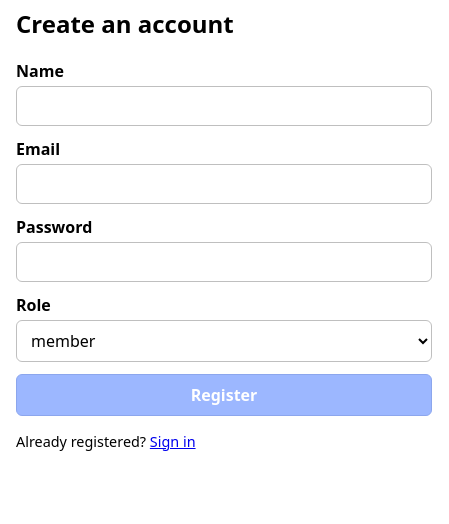
RegisterPage › renders the exact error string for a 403 librarian escalation attempt
Type "Ada" into the field labelled "Name". click: (224,106)
box: [16,86,432,126]
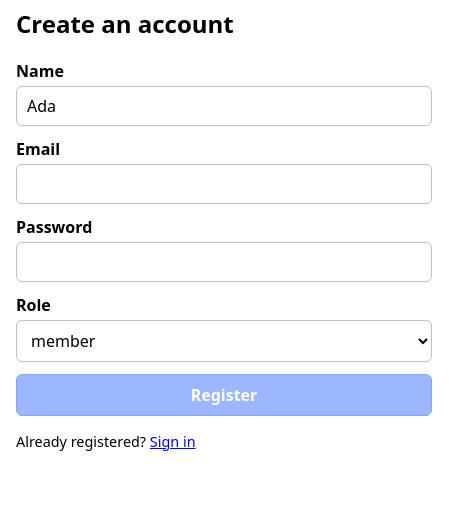
Type "ada@library.test" into the field labelled "Email". click: (224,184)
box: [16,164,432,204]
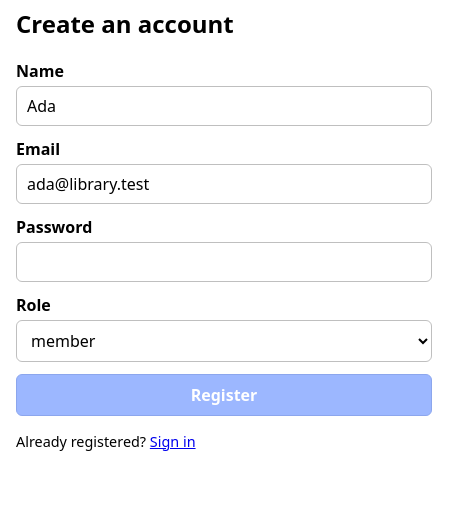
Type "Password123!" into the password field labelled "Password". click: (224,262)
box: [16,242,432,282]
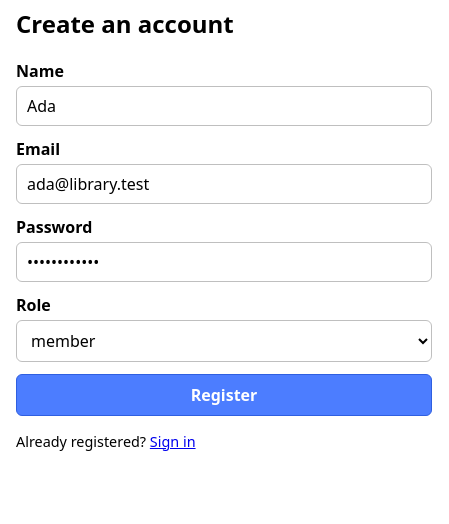
Select "librarian" in the dropdown labelled "Role". click: (224,341)
box: [16,320,432,362]
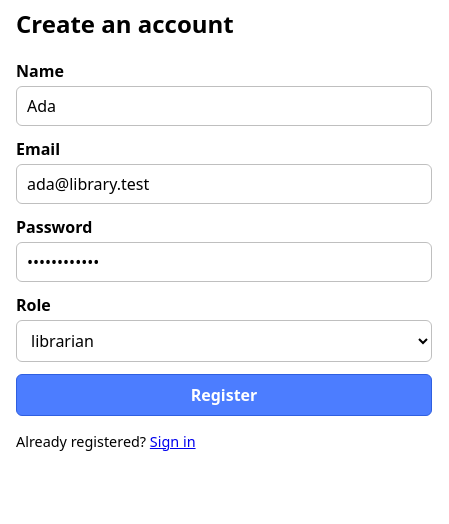
Click the button "Register". click: (224,395)
box: [16,374,432,416]
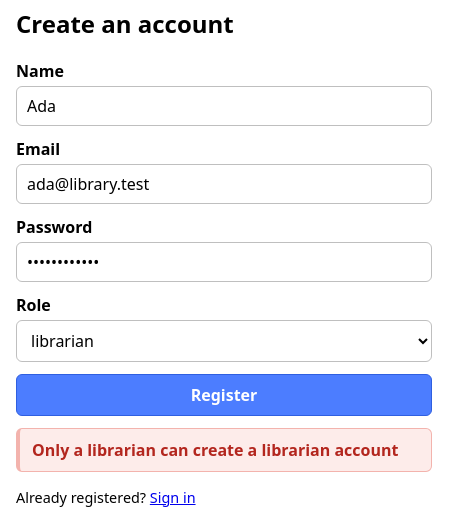
expect the message reads "Only a librarian can create a librarian account": met, box [32,439,398,461]
